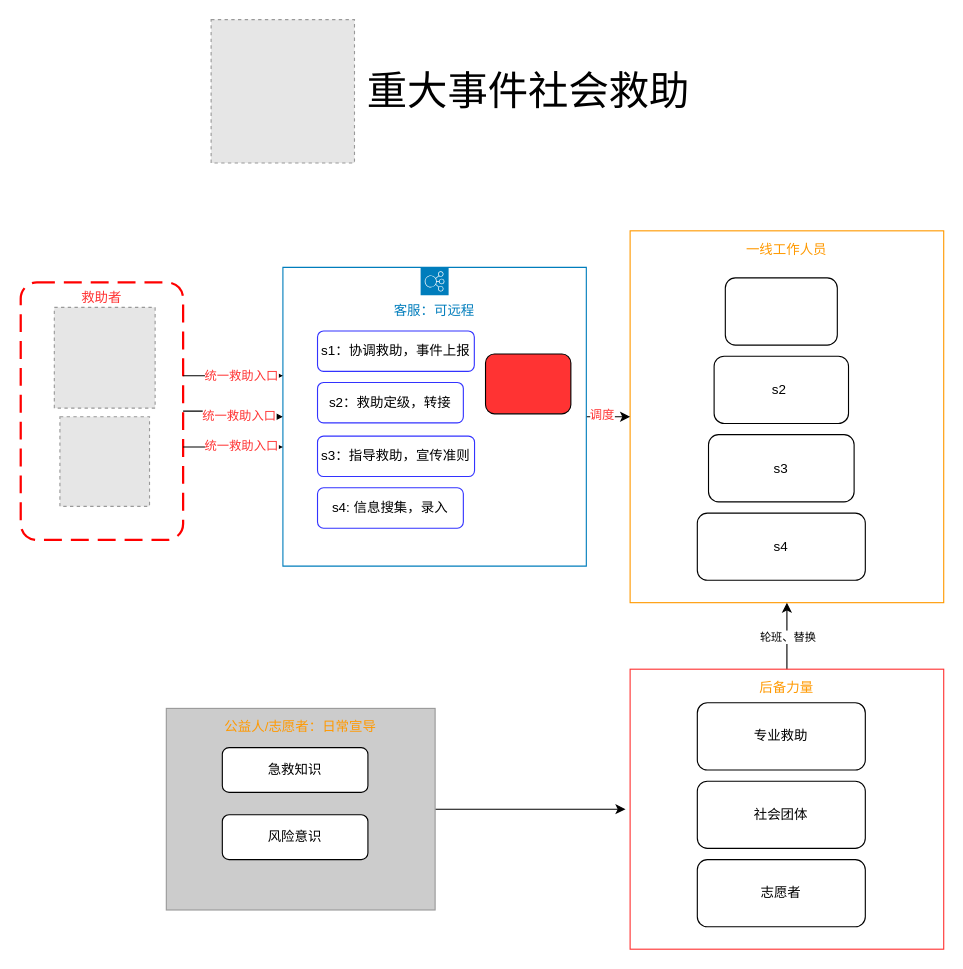
Image size: 963x969. Some labels were removed from this diagram. Grey dashed boxes stand in for pictures. Each missing label, with the centre of its shape:
"s1" belongs at point (780, 311).
"指挥调度中心" belongs at point (527, 383).
